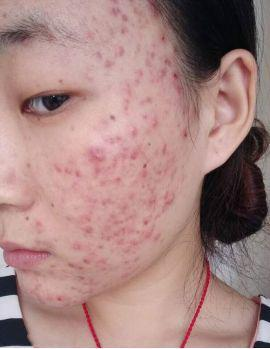fore: (158, 183, 180, 206), (50, 159, 71, 180), (111, 168, 132, 189), (82, 145, 105, 164), (85, 164, 108, 183), (123, 119, 143, 139), (139, 192, 159, 212), (170, 65, 186, 89), (117, 82, 139, 98), (72, 159, 86, 184), (76, 215, 91, 238), (129, 65, 151, 80), (112, 26, 137, 39), (67, 239, 87, 255), (106, 44, 127, 59), (149, 234, 170, 249), (101, 196, 116, 217), (180, 122, 197, 140), (137, 222, 153, 241), (122, 233, 141, 249), (105, 131, 122, 148), (81, 255, 98, 272), (137, 111, 160, 123), (150, 23, 166, 40), (159, 141, 174, 159), (83, 195, 101, 210), (130, 146, 149, 160), (163, 162, 180, 177), (139, 166, 154, 182), (118, 144, 133, 159), (116, 198, 132, 212), (129, 3, 145, 17), (123, 209, 140, 222), (61, 212, 77, 225), (154, 67, 168, 81), (42, 289, 56, 303), (77, 284, 93, 296), (137, 94, 154, 105), (111, 221, 124, 235), (93, 239, 107, 252), (66, 281, 80, 294), (74, 272, 89, 284), (142, 49, 156, 61), (32, 218, 46, 230), (100, 230, 114, 242), (84, 28, 98, 40), (96, 253, 110, 265), (73, 294, 87, 306), (54, 291, 67, 303), (120, 99, 133, 111), (107, 154, 120, 166), (109, 2, 120, 16), (117, 12, 129, 24), (100, 220, 112, 232), (119, 269, 132, 280), (98, 278, 111, 289), (33, 280, 46, 291), (61, 258, 75, 268), (46, 260, 60, 270), (42, 268, 56, 278), (158, 56, 174, 64), (93, 47, 101, 57), (103, 60, 110, 67)
